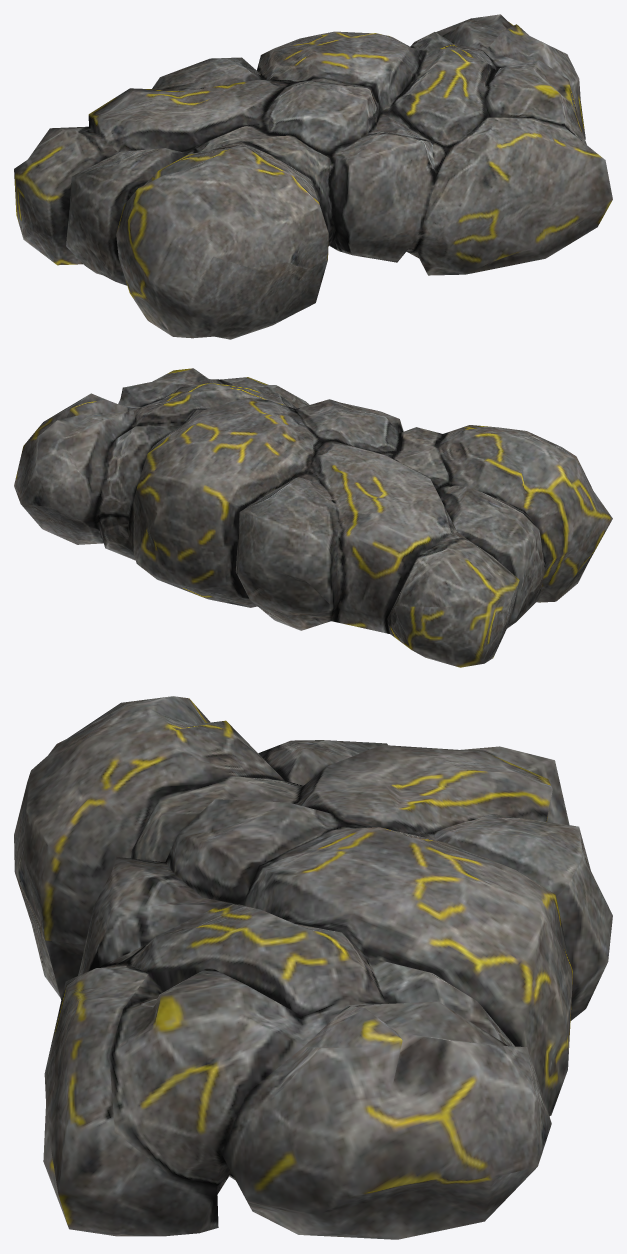
File: mine_metal_temperate_square.glb
3 views of the same model, one above another, from view 1: azimuth 30°, elevation 25°; view 2: azimuth 150°, elevation 25°; view 3: azimuth 270°, elevation 25° (orthographic). The views are drawn at different scales.
Visible parts, largest first — view 1: mine_metal_temperate_square_part0; view 2: mine_metal_temperate_square_part0; view 3: mine_metal_temperate_square_part0.
Boxes of the visible parts, <box> form: mine_metal_temperate_square_part0: <box>14,14,612,339</box>; mine_metal_temperate_square_part0: <box>14,368,612,667</box>; mine_metal_temperate_square_part0: <box>14,696,612,1239</box>.
Size of the model in its own units: 5.37 by 1.8 by 3.25.
Materials: 1 (1 with a texture image).
